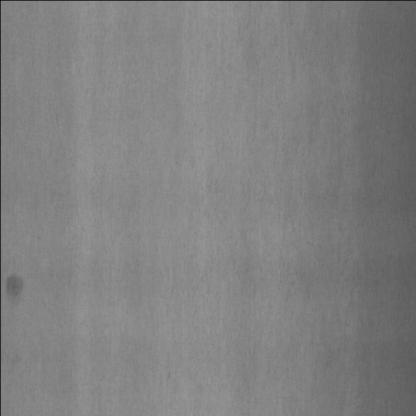oil_spot: (5, 268, 24, 309)
